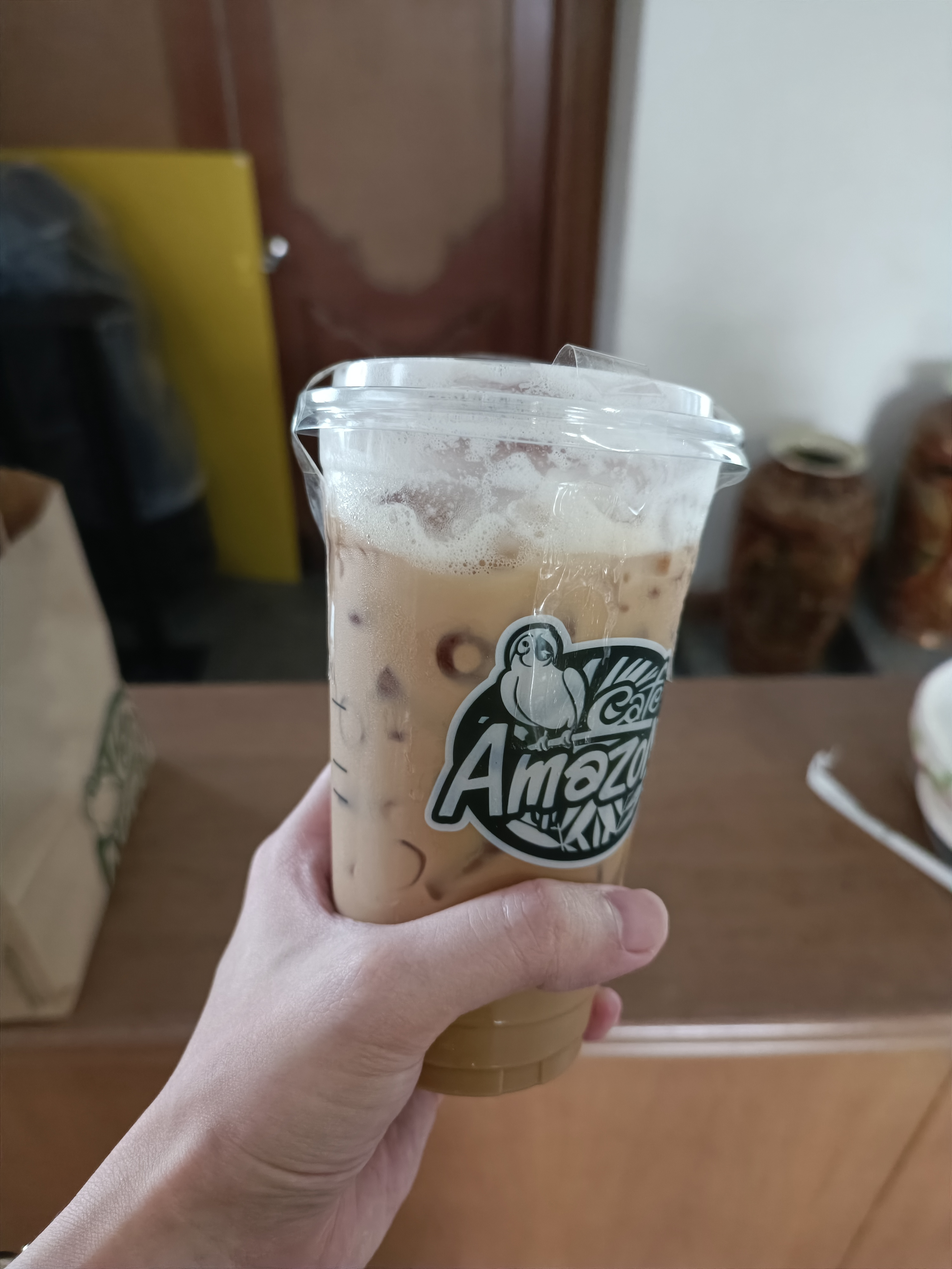plastic: (241, 324, 786, 1109)
